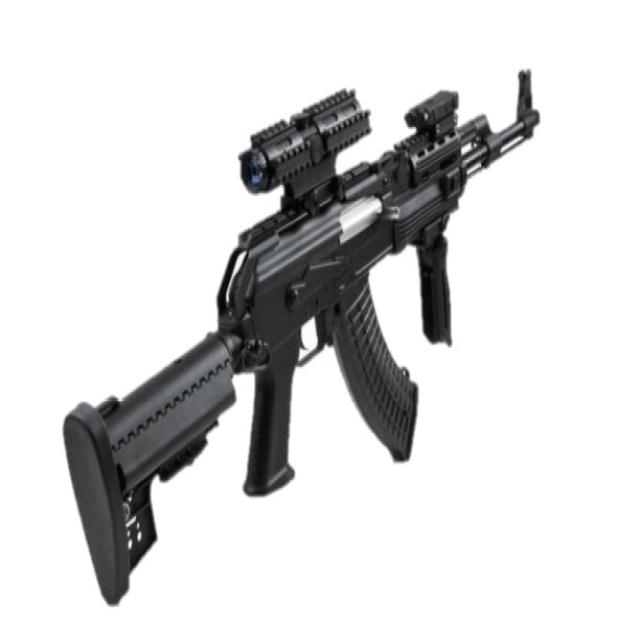rifle: (61, 61, 546, 611)
